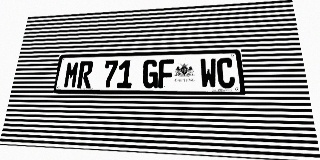1: (117, 60, 133, 88)
7: (102, 60, 118, 88)
C: (217, 58, 236, 88)
F: (158, 59, 174, 88)
G: (142, 59, 158, 88)
M: (63, 61, 80, 88)
R: (77, 61, 94, 88)
W: (200, 58, 218, 88)
